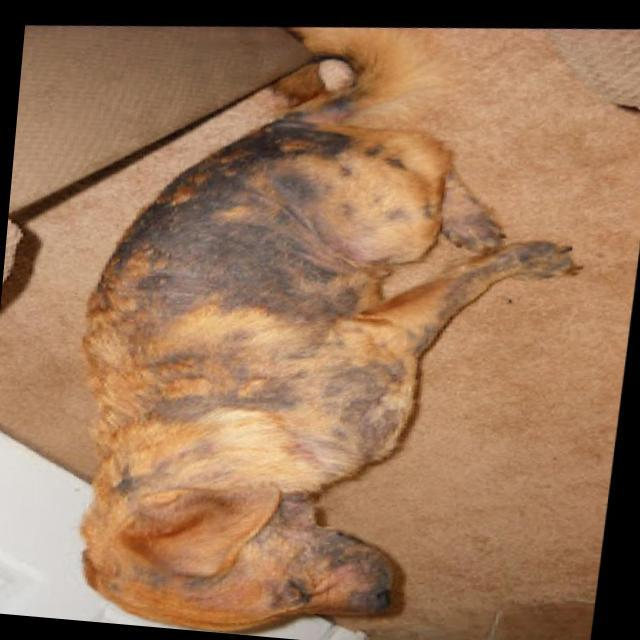allergic dermatitis: (118, 197, 354, 335), (139, 353, 414, 458), (178, 124, 345, 227)
